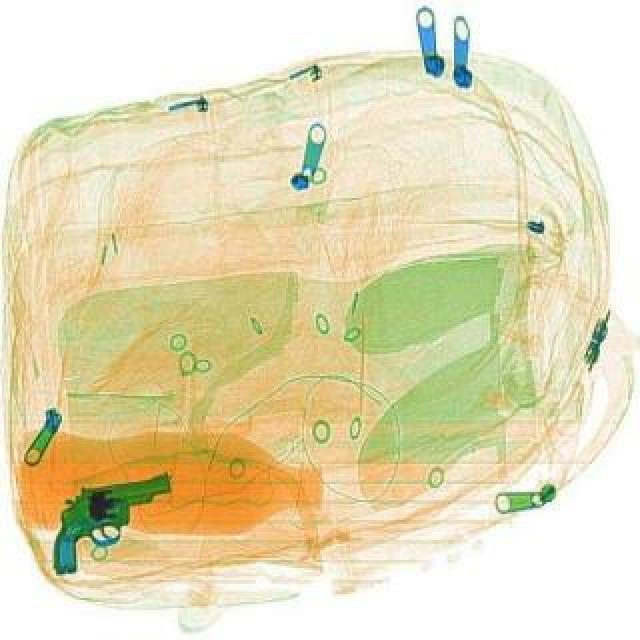gun: (36, 470, 184, 574)
